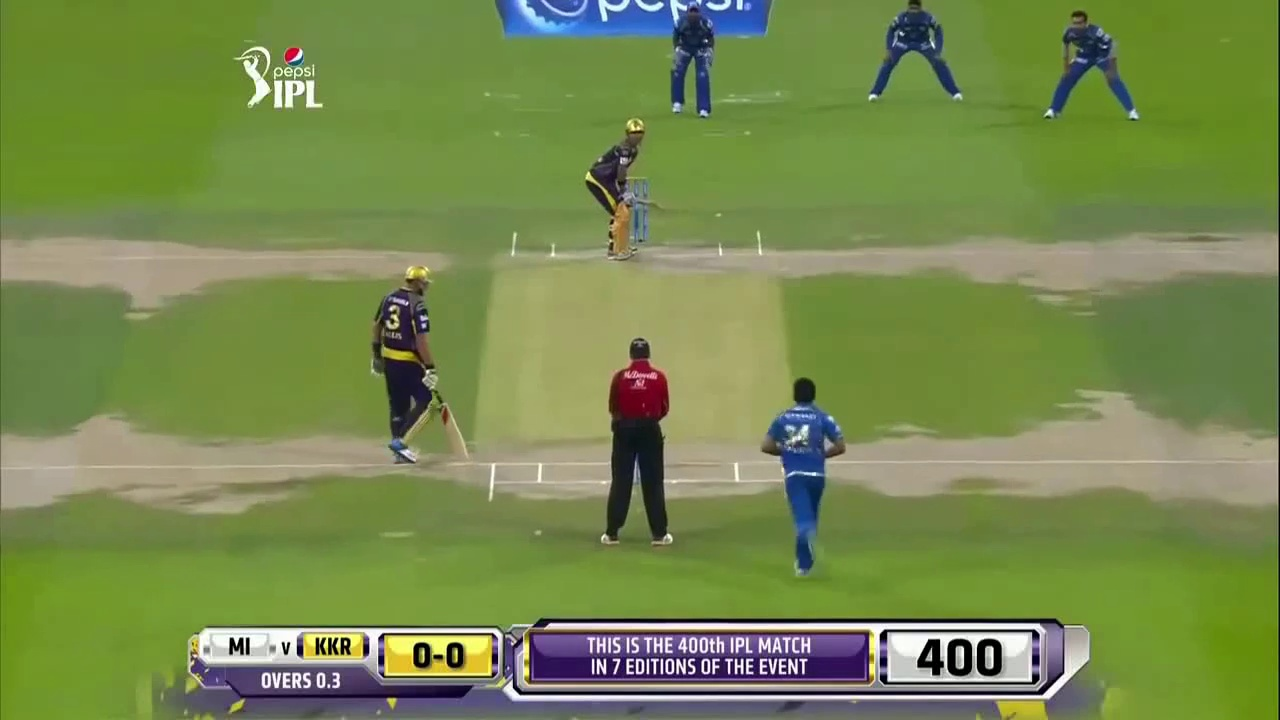bat: (434, 393, 471, 461)
